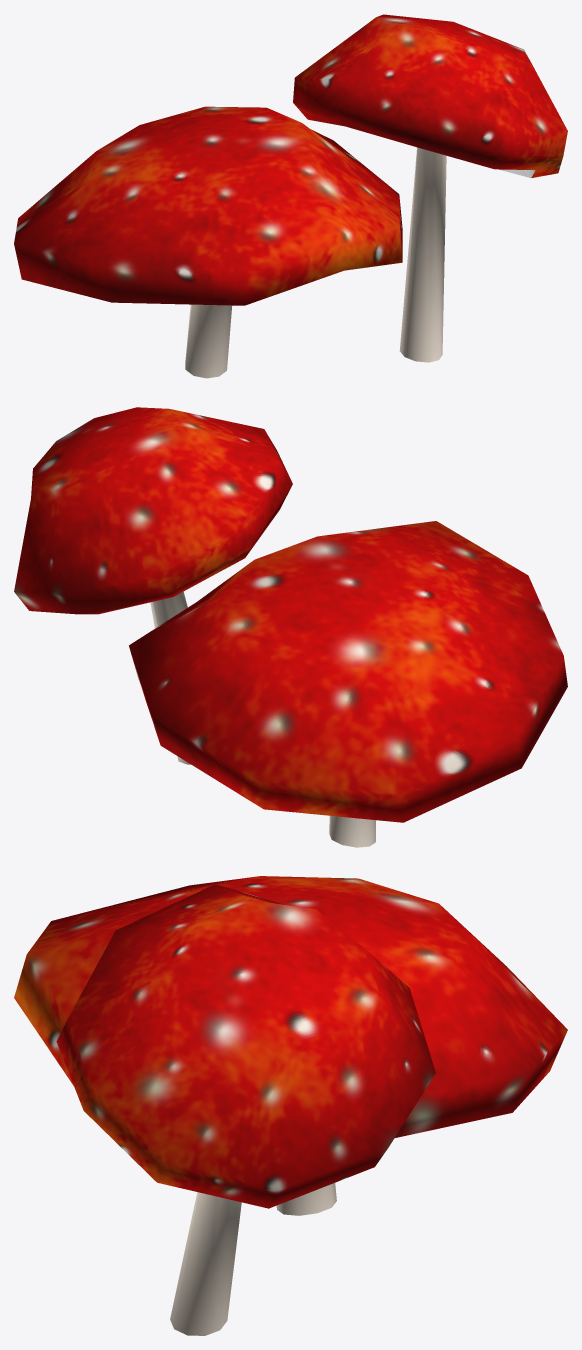
The model's file is mushroom 4.fbx.
3 renders of one model, top to bottom at view 1: azimuth 30°, elevation 25°; view 2: azimuth 150°, elevation 25°; view 3: azimuth 270°, elevation 25°, orthographic. The views are drawn at different scales.
Parts seen in each view (by area): view 1: mushroom_4; view 2: mushroom_4; view 3: mushroom_4.
Boxes of the visible parts, x1,y1,x2,y2 form: mushroom_4: (14, 14, 567, 378); mushroom_4: (14, 407, 567, 847); mushroom_4: (14, 876, 567, 1335).
Bounding box in the file's own units: 0.8991 × 0.5693 × 0.6738.
